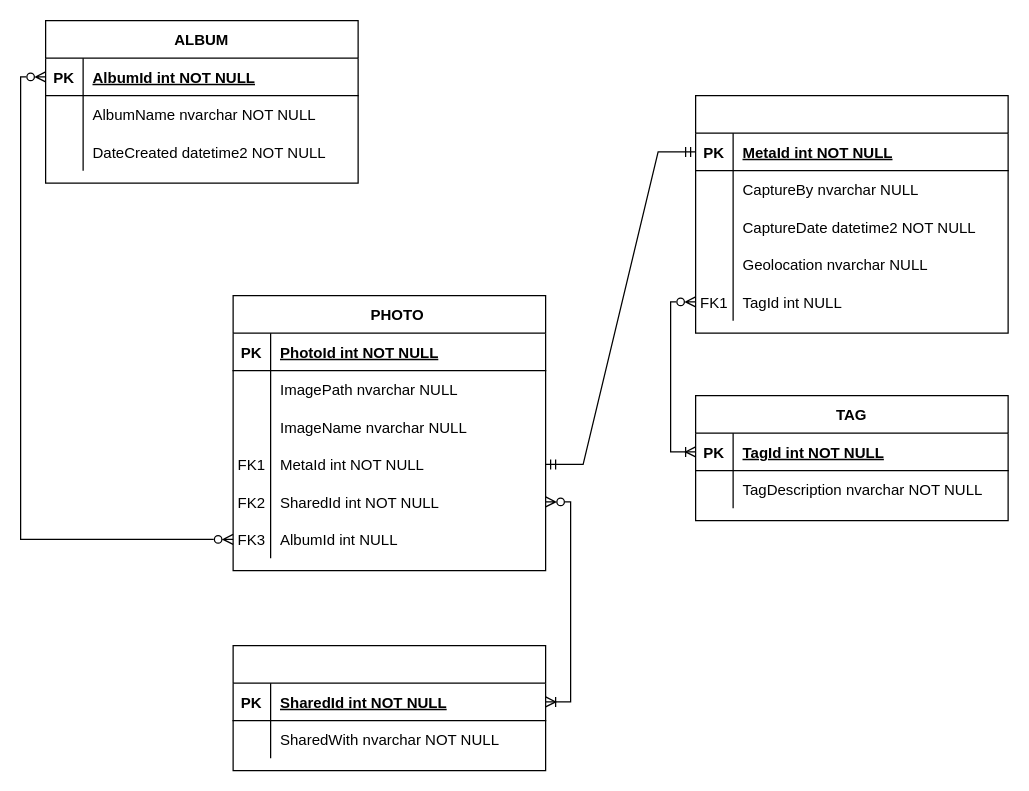
This 1029x791 diagram has some shape labels left out. Here are the shapes that lost their labels. From the top down, the box of each, then its label:
(694, 94, 1008, 333): METADATA
(232, 644, 546, 771): SHAREIMAGE
